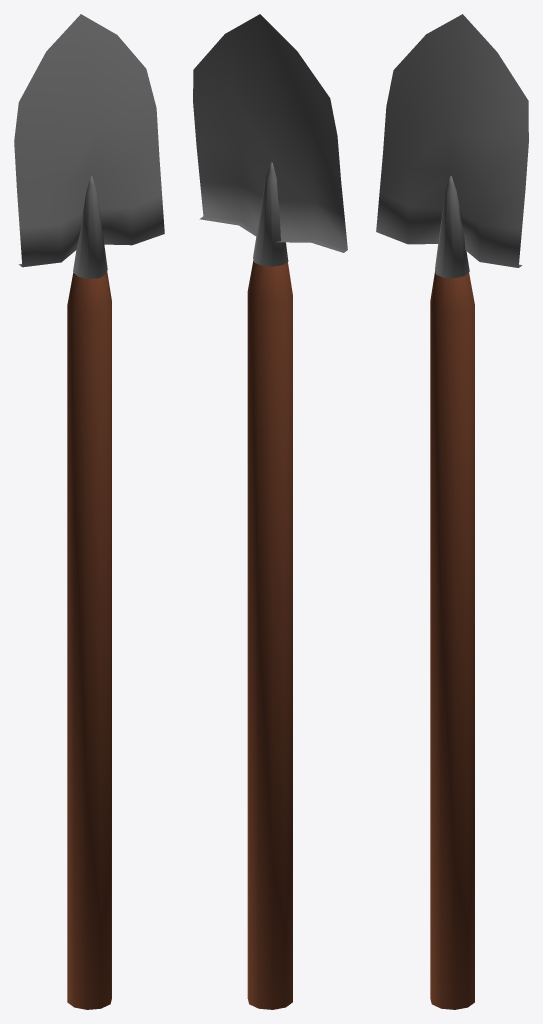
The model's file is lopata.fbx.
3 views of the same model, side by side, from view 1: azimuth 30°, elevation 25°; view 2: azimuth 150°, elevation 25°; view 3: azimuth 330°, elevation 25° (orthographic).
Parts seen in each view (by area): view 1: Cylinder, Plane; view 2: Cylinder, Plane; view 3: Cylinder, Plane.
Boxes of the visible parts, x1,y1,x2,y2 form: Cylinder: (67, 272, 111, 1009); Plane: (14, 14, 164, 278); Cylinder: (247, 260, 292, 1009); Plane: (193, 14, 347, 266); Cylinder: (430, 271, 474, 1009); Plane: (376, 14, 528, 278).
Bounding box in the file's own units: 208 × 1356 × 57.47.
